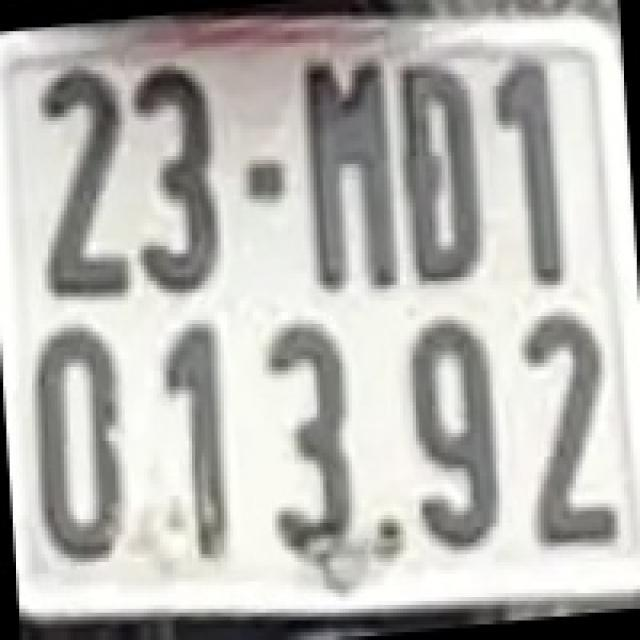0: (32, 320, 128, 562)
1: (493, 59, 573, 288), (160, 320, 234, 558)
2: (518, 304, 628, 546), (38, 62, 132, 296)
3: (262, 320, 356, 550), (131, 62, 221, 292)
9: (406, 312, 506, 550)
D: (403, 58, 483, 282)
M: (302, 51, 398, 281)
